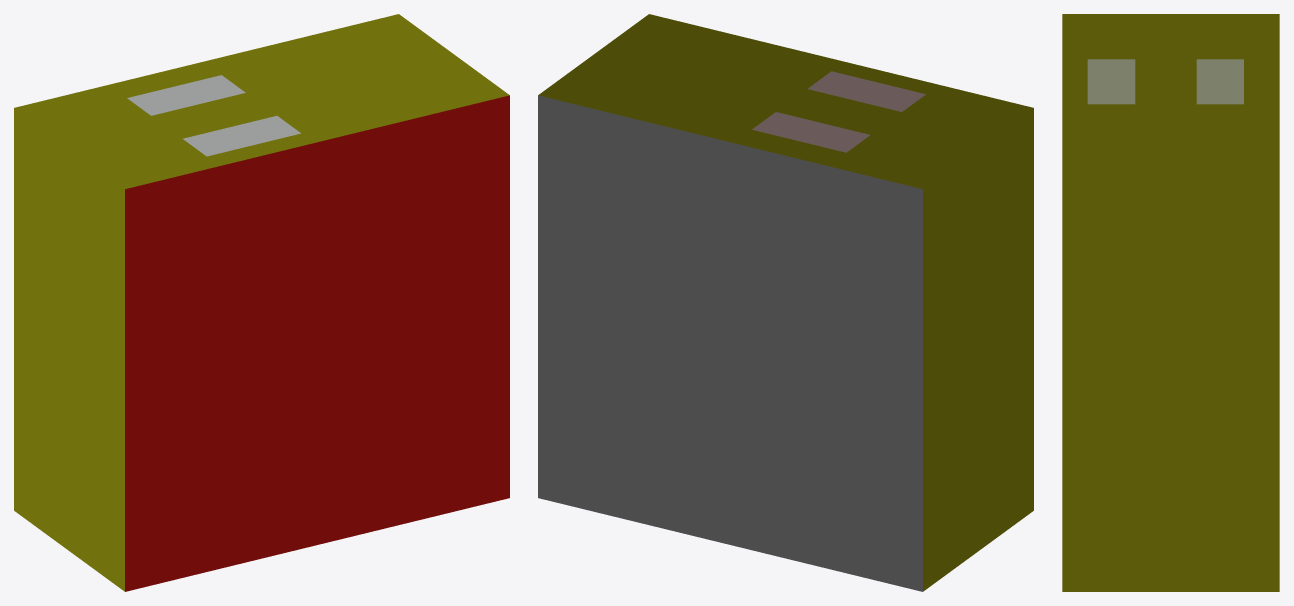
File: idf.obj
The picture shows the model from 3 angles, left to right: view 1: azimuth 30°, elevation 25°; view 2: azimuth 150°, elevation 25°; view 3: azimuth 270°, elevation 25°; orthographic projection. The views are drawn at different scales.
Size of the model in its own units: 12.19 by 12.19 by 6.1.
